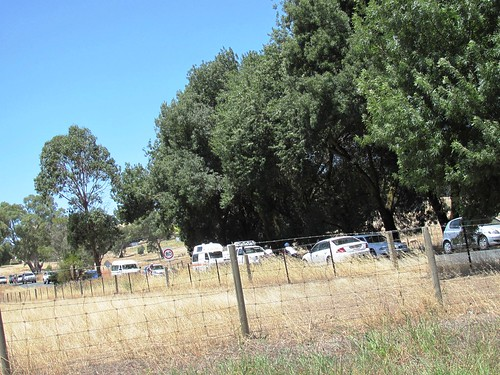grass: (14, 264, 500, 375)
sky: (1, 1, 288, 168)
vegetation: (9, 1, 500, 269)
